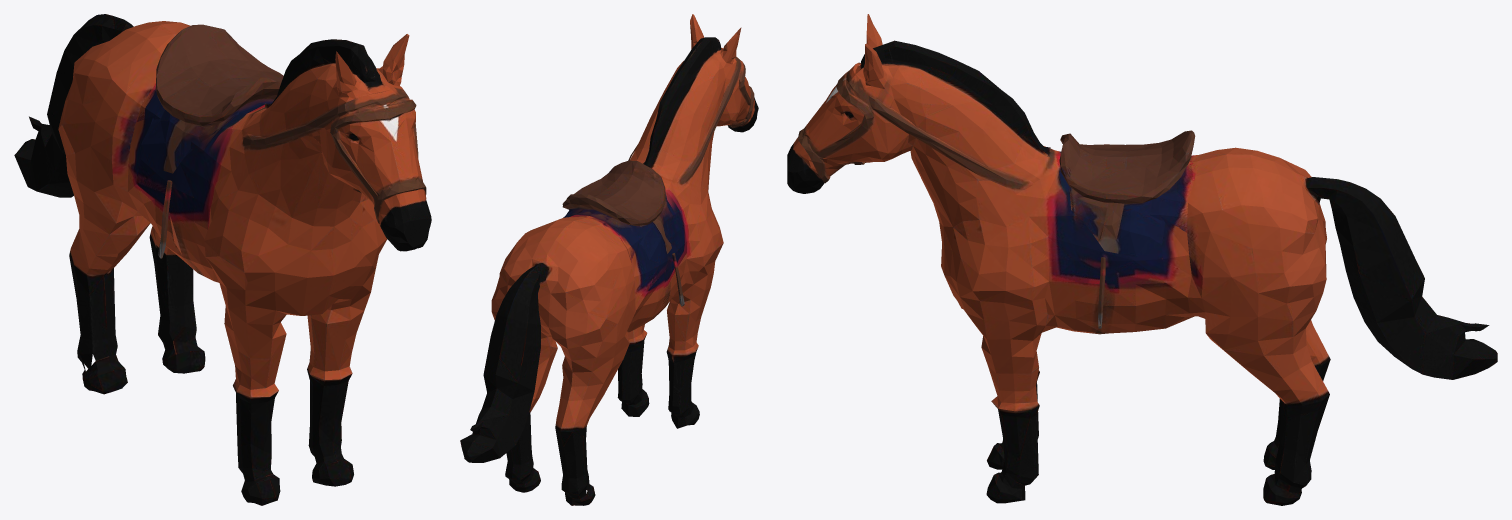
Rendered from modelo.glb.
3 views of the same model, side by side, from view 1: azimuth 30°, elevation 25°; view 2: azimuth 150°, elevation 25°; view 3: azimuth 270°, elevation 25° (orthographic). The views are drawn at different scales.
Parts seen in each view (by area): view 1: caballo; view 2: caballo; view 3: caballo.
Boxes of the visible parts, x1,y1,x2,y2 form: caballo: (14, 14, 431, 505); caballo: (460, 14, 758, 505); caballo: (787, 14, 1497, 505).
Bounding box in the file's own units: 0.7309 × 2.06 × 2.9.
Materials: 1 (1 with a texture image).
